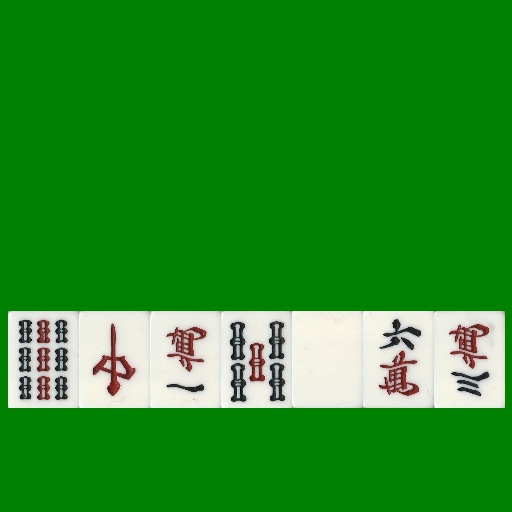1m: (150, 311, 221, 408)
3m: (434, 311, 505, 408)
5s: (221, 311, 292, 408)
6m: (363, 311, 434, 408)
9s: (8, 311, 79, 408)
tyun: (79, 311, 150, 408)
white: (292, 311, 363, 408)
